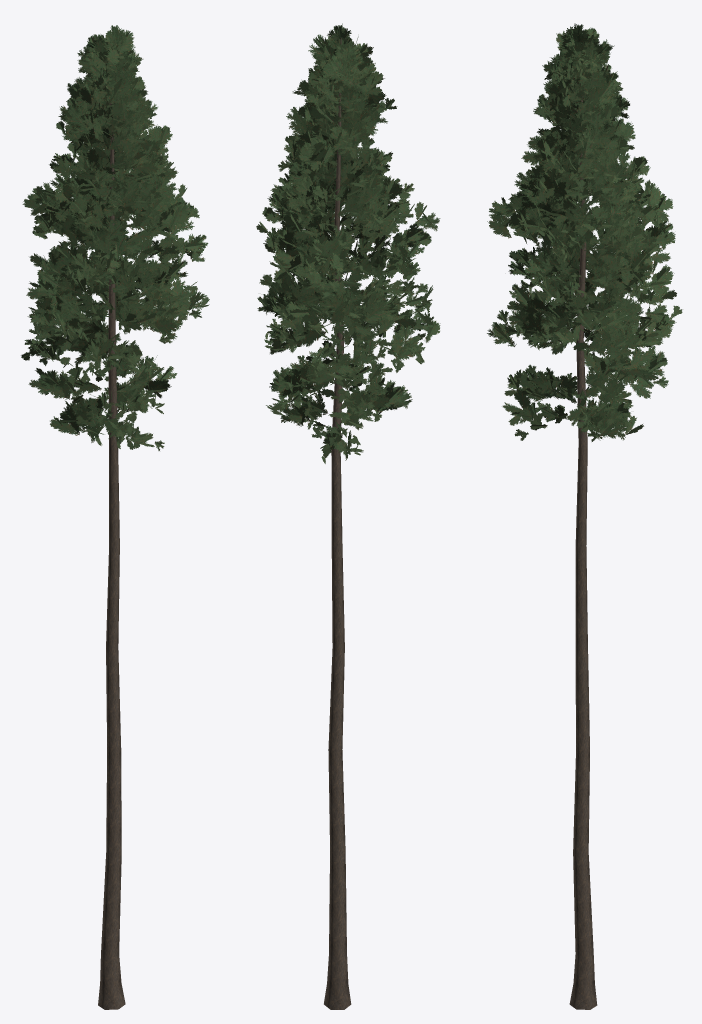
File: pine_b_lod1.glb
3 views of the same model, side by side, from view 1: azimuth 30°, elevation 25°; view 2: azimuth 150°, elevation 25°; view 3: azimuth 270°, elevation 25° (orthographic).
Visible parts, largest first — view 1: pine_b_lod1; view 2: pine_b_lod1; view 3: pine_b_lod1.
Boxes of the visible parts, x1=… form: pine_b_lod1: x1=21, y1=25, x2=209, y2=1009; pine_b_lod1: x1=256, y1=23, x2=440, y2=1009; pine_b_lod1: x1=487, y1=23, x2=682, y2=1009.
Bounding box in the file's own units: 4.29 × 23.36 × 4.51.
Materials: 2 (2 with a texture image).
